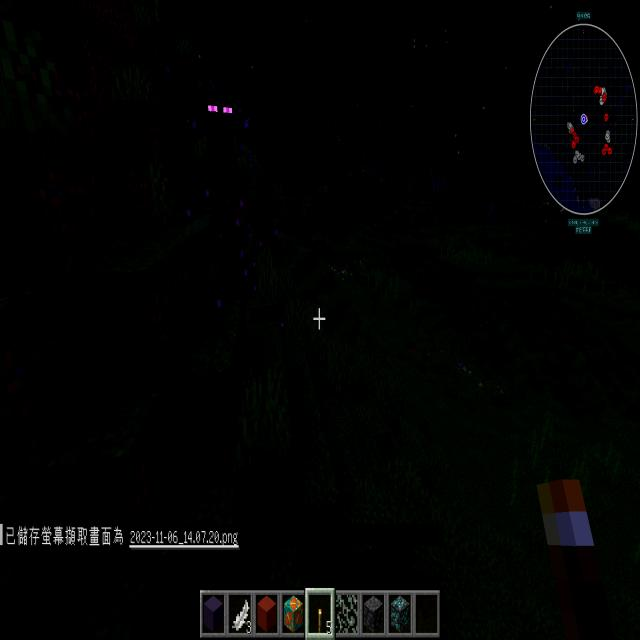Enderman: (186, 76, 254, 317)
